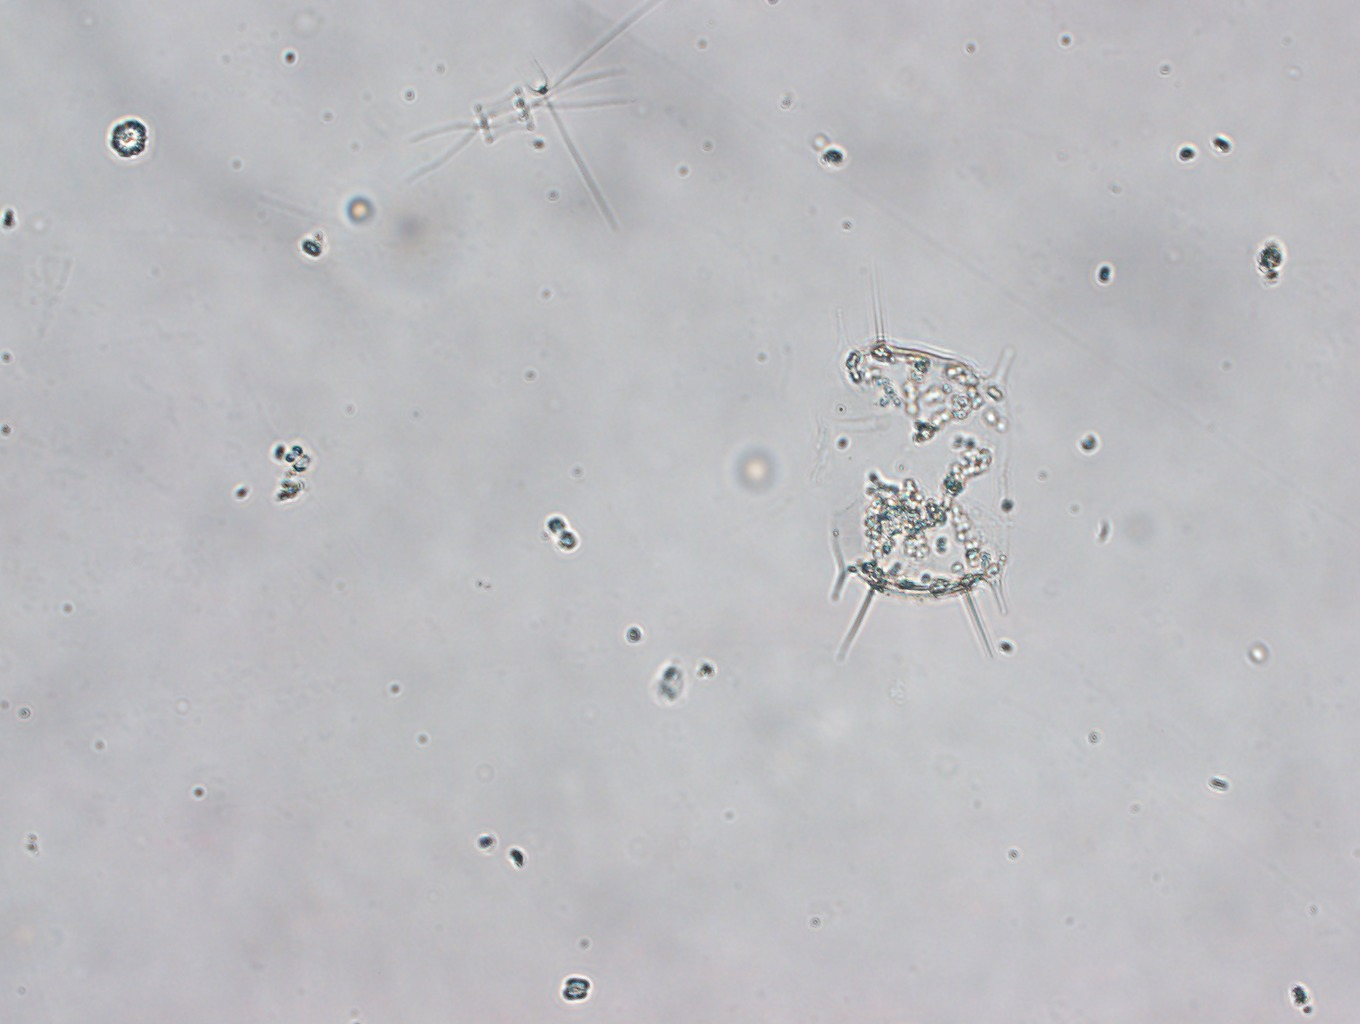biddulphia: (825, 268, 1018, 662)
chaetoceros: (406, 1, 654, 183)
